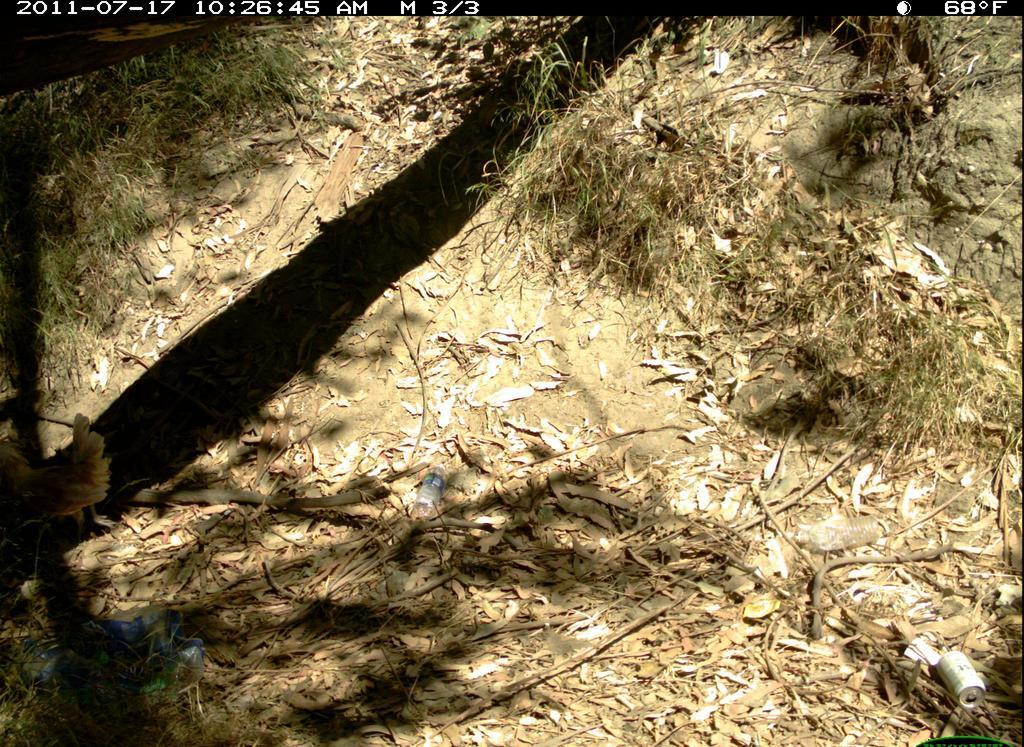bird: (2, 408, 121, 559)
